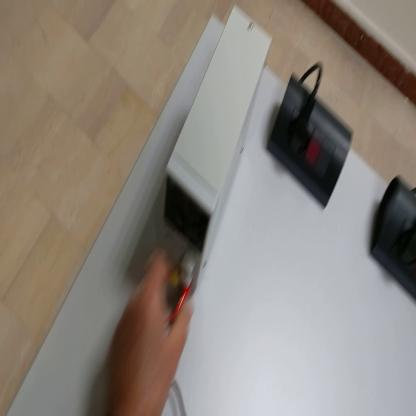hand: (106, 247, 193, 416)
power supply: (163, 2, 276, 288)
socket: (264, 70, 355, 214), (372, 177, 416, 301)
